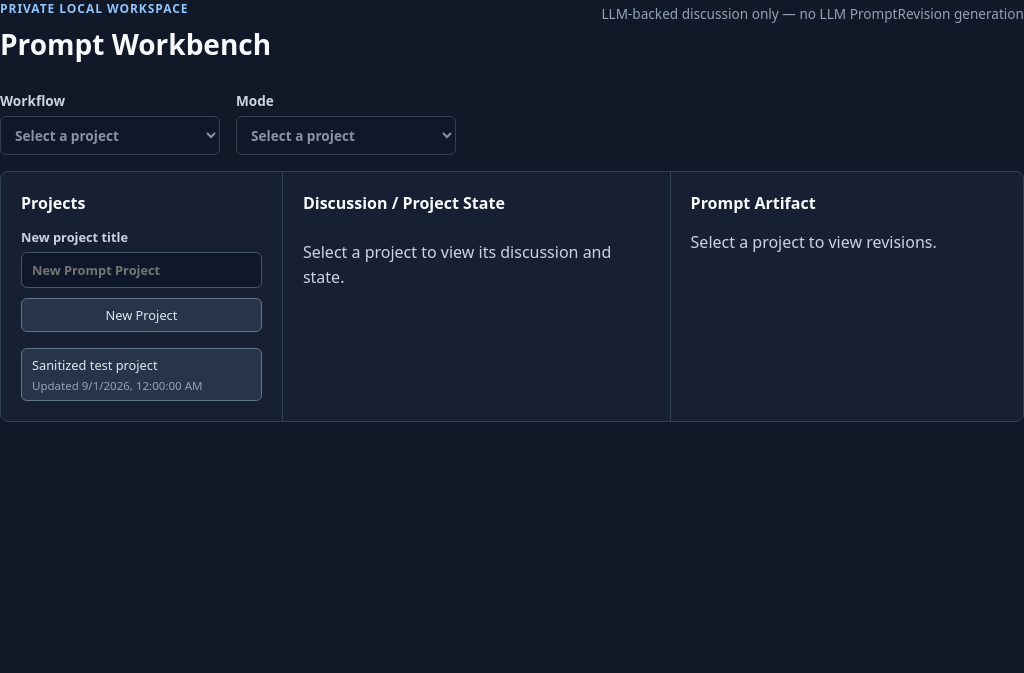
Test: Prompt Workbench persistence UI › accepts a proposed revision and refetches the project pointer
The width and height of the screenshot is (1024, 673).
Click the button "Sanitized test project Updated 9/1/2026, 12:00:00 AM" at [141, 374], box left=21, top=348, right=262, bottom=401
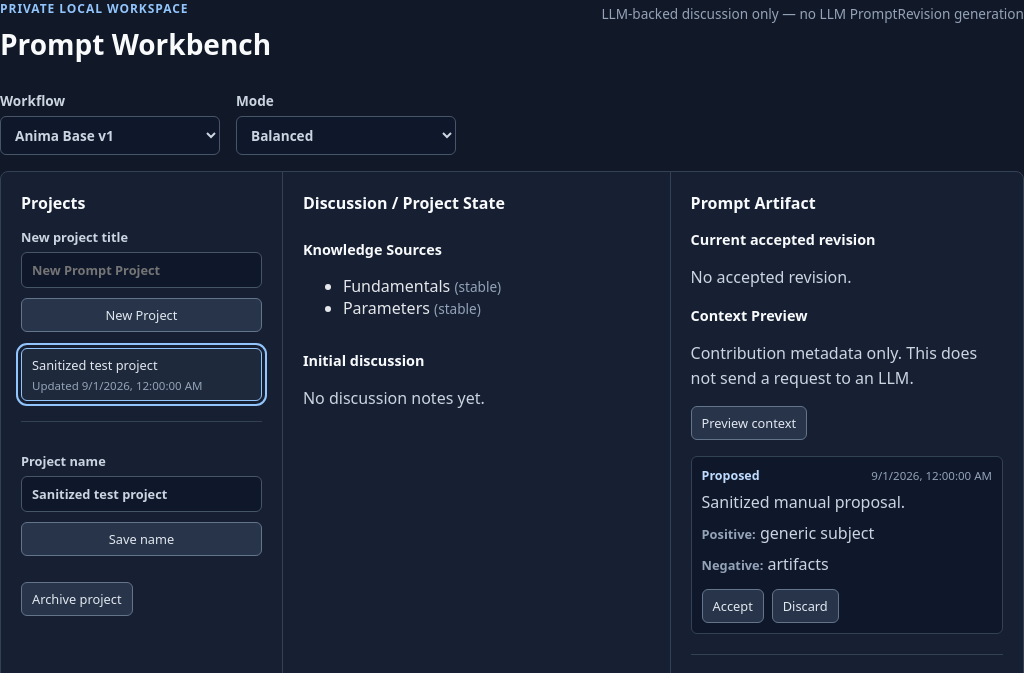
Check: the text "No discussion notes yet." is shown, box left=303, top=387, right=485, bottom=409
Click the button "Accept" at [733, 606], box left=702, top=589, right=764, bottom=623
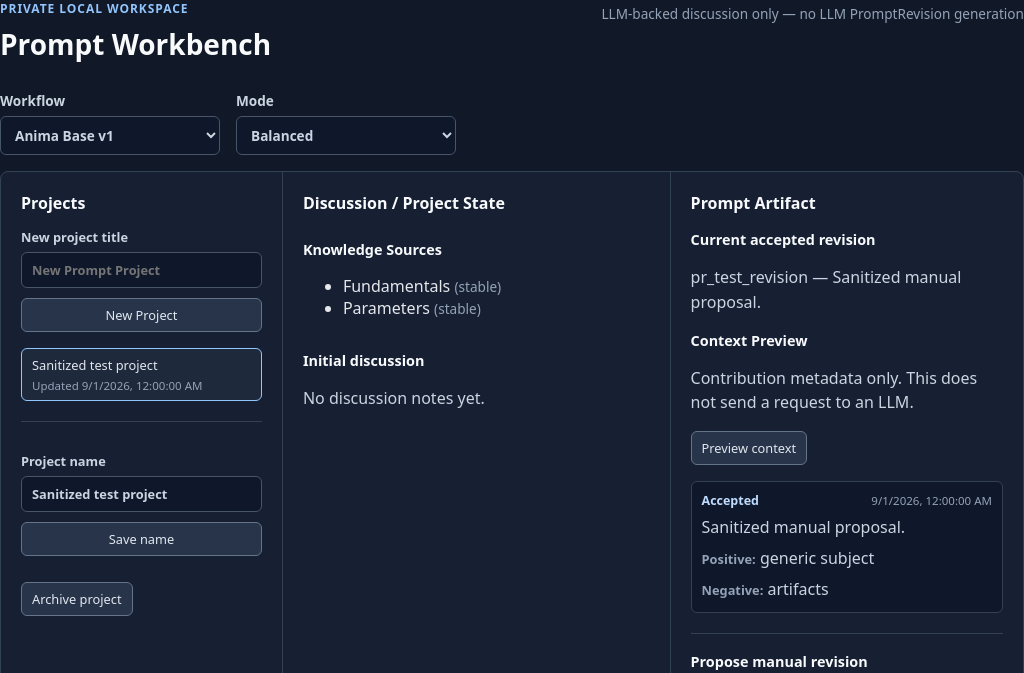
Check: the text "pr_test_revision — Sanitized manual proposal." is shown, box left=691, top=265, right=1003, bottom=315
